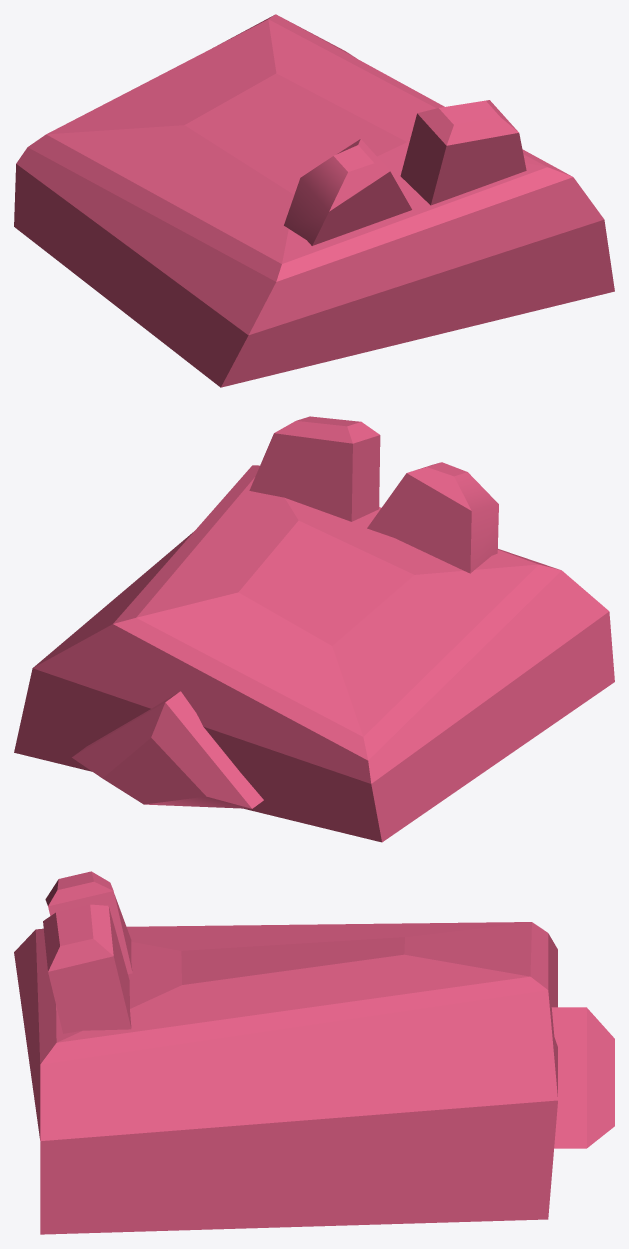
File: Rock_3.fbx
3 renders of one model, top to bottom at view 1: azimuth 30°, elevation 25°; view 2: azimuth 150°, elevation 25°; view 3: azimuth 270°, elevation 25°, orthographic. The views are drawn at different scales.
Parts seen in each view (by area): view 1: rock_3_low; view 2: rock_3_low; view 3: rock_3_low.
Boxes of the visible parts, x1=… form: rock_3_low: x1=14, y1=14, x2=614, y2=387; rock_3_low: x1=14, y1=416, x2=614, y2=842; rock_3_low: x1=14, y1=871, x2=614, y2=1234.
Bounding box in the file's own units: 0.2553 × 0.1274 × 0.2874.
